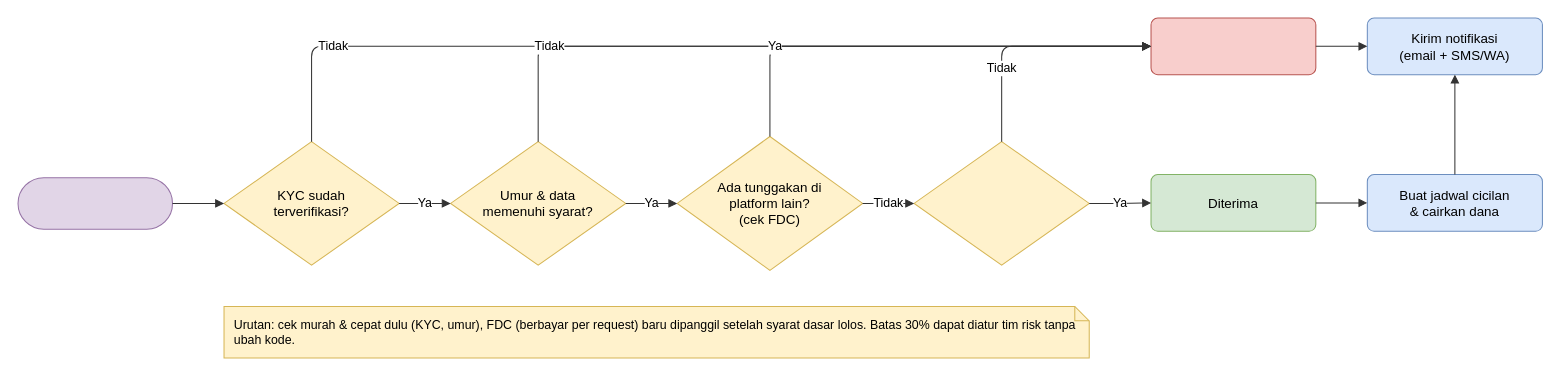
Image size: 1560x376. Some labels were removed from this diagram. Here are the shapes that lost their labels. From the top down, the centre of each, then its label:
At [1233,46]: "Ditolak".
At [95,203]: "Pengajuan masuk".
At [1001,203]: "Cicilan ≤ 30% penghasilan?".
